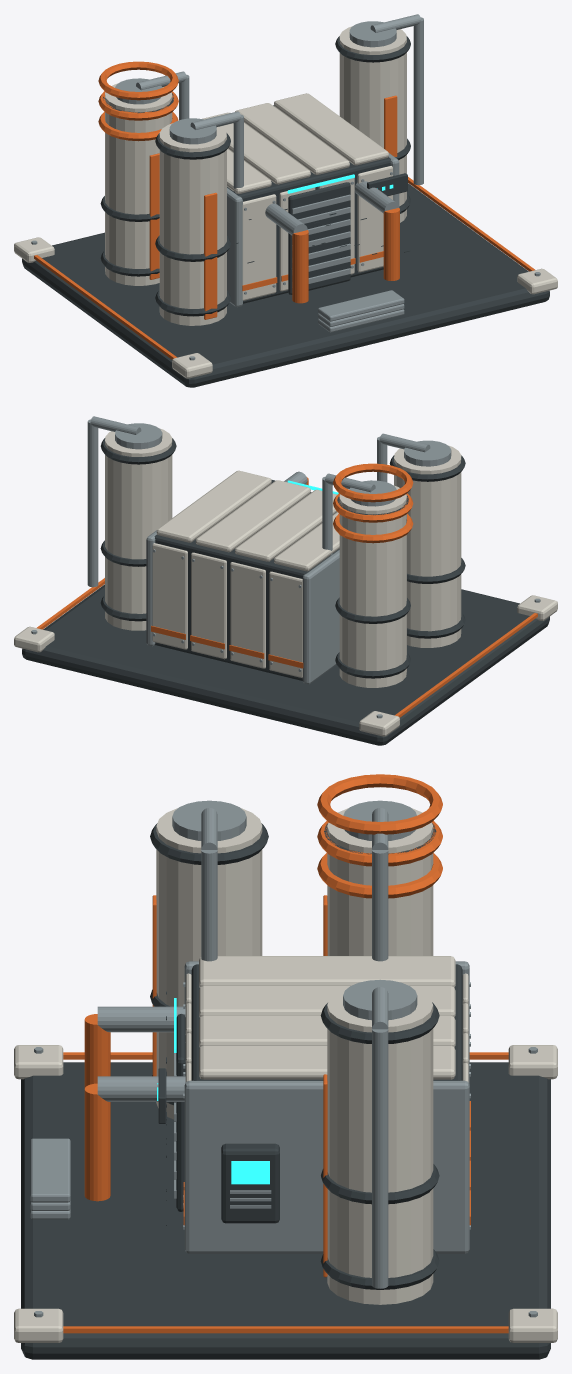
File: SM_FuelProcessor_Body.002.fbx
3 views of the same model, one above another, from view 1: azimuth 30°, elevation 25°; view 2: azimuth 150°, elevation 25°; view 3: azimuth 270°, elevation 25° (orthographic). The views are drawn at different scales.
Visible parts, largest first — view 1: SM_FuelProcessor_Body.002; view 2: SM_FuelProcessor_Body.002; view 3: SM_FuelProcessor_Body.002.
Part boxes in pixels (bbox=[...]): SM_FuelProcessor_Body.002: bbox=[14, 14, 557, 387]; SM_FuelProcessor_Body.002: bbox=[14, 416, 557, 745]; SM_FuelProcessor_Body.002: bbox=[14, 774, 557, 1359].
Bounding box in the file's own units: 572 × 462 × 315.
